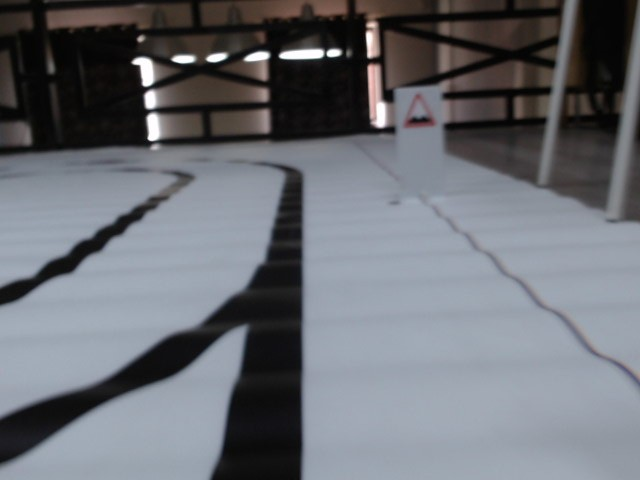Nerov: (400, 93, 439, 134)
